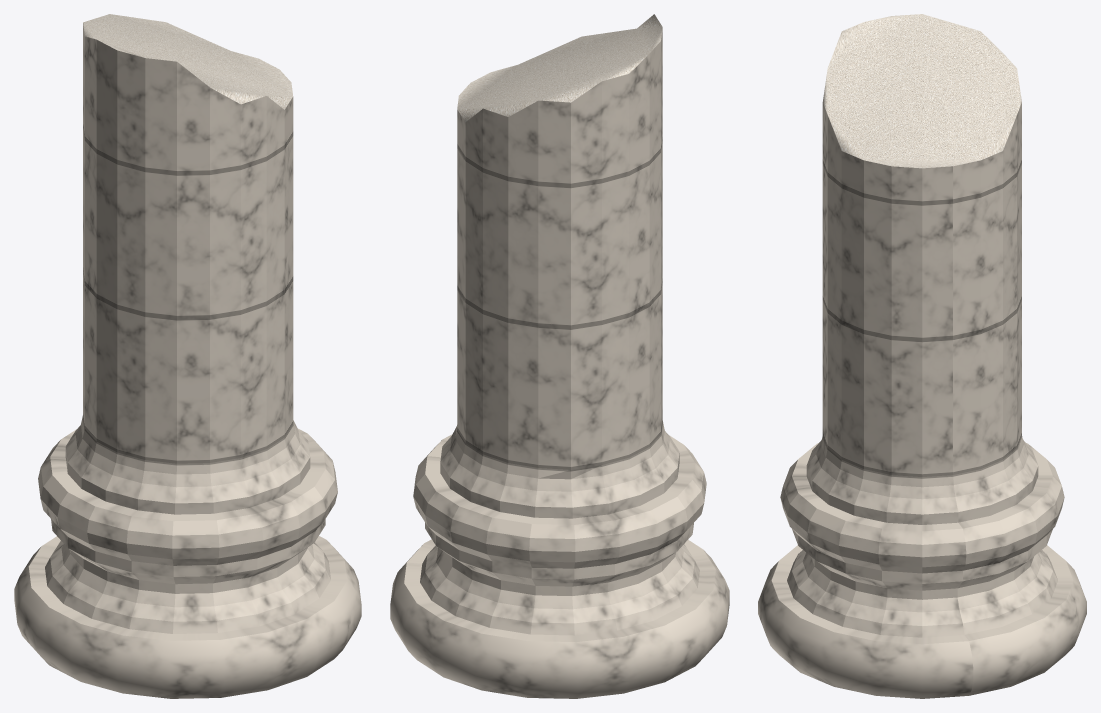
File: Pillar_Broken_1.FBX
The picture shows the model from 3 angles, left to right: view 1: azimuth 30°, elevation 25°; view 2: azimuth 150°, elevation 25°; view 3: azimuth 270°, elevation 25°; orthographic projection. The views are drawn at different scales.
Visible parts, largest first — view 1: Cylinder001; view 2: Cylinder001; view 3: Cylinder001.
Part boxes in pixels (<box>): Cylinder001: <box>14,14,361,698</box>; Cylinder001: <box>390,14,729,698</box>; Cylinder001: <box>758,14,1086,698</box>.
Bounding box in the file's own units: 22.28 × 43.28 × 22.28.
